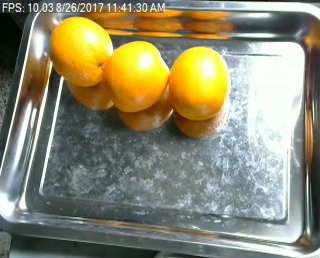Orange: (104, 41, 170, 111), (48, 15, 112, 87), (168, 45, 230, 119)
